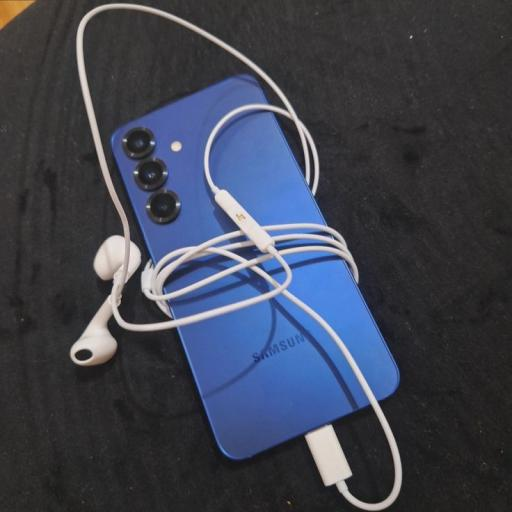curb: (112, 76, 398, 458)
